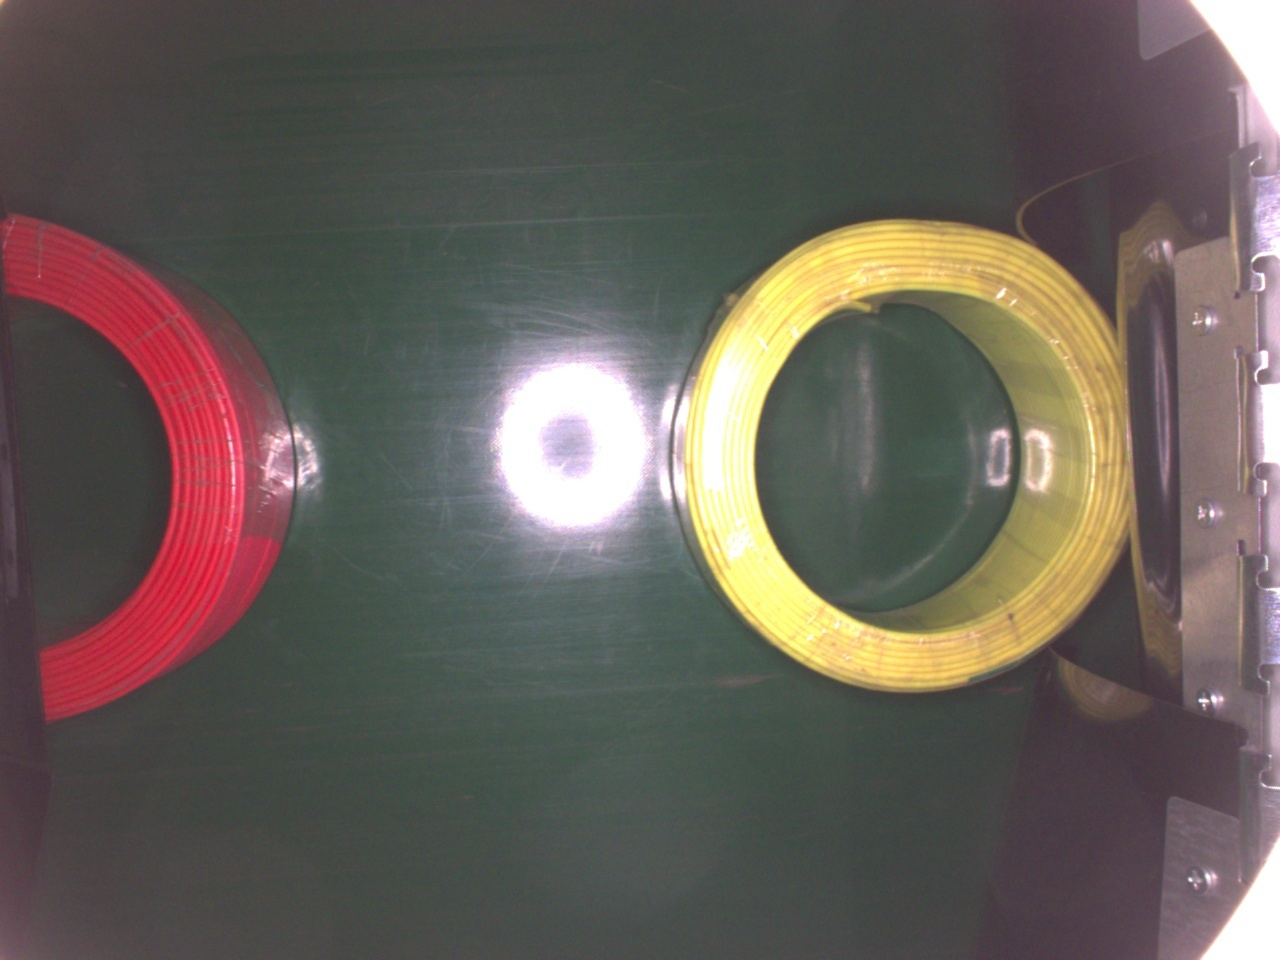red: (0, 203, 296, 715)
yellow: (674, 211, 1137, 696)
